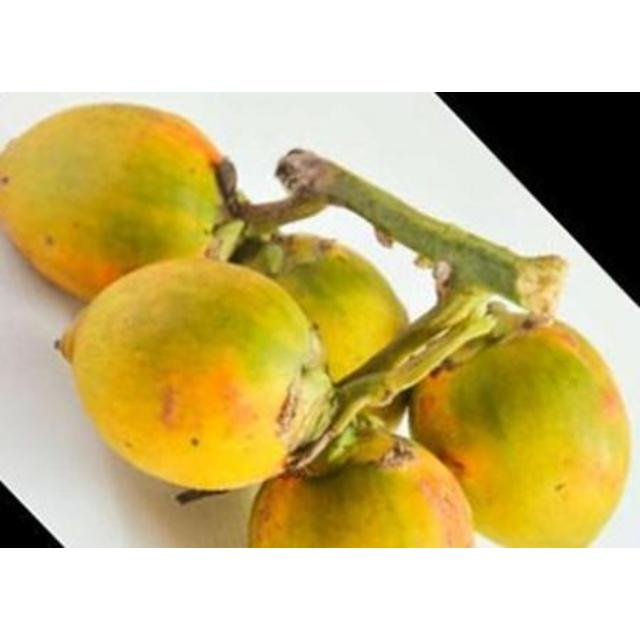good: (53, 257, 391, 496), (408, 317, 631, 547), (0, 102, 246, 304), (215, 207, 411, 384), (246, 445, 479, 547)
